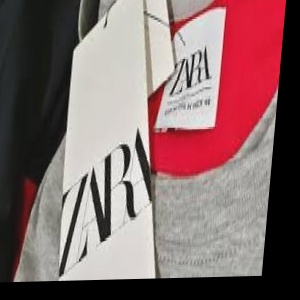zara: (100, 109, 276, 248), (98, 10, 285, 80)
